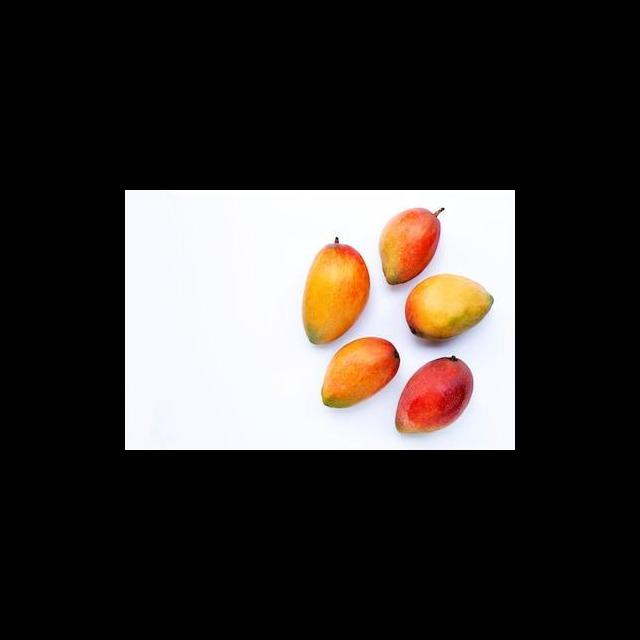mango: (302, 244, 369, 343), (395, 356, 473, 433), (405, 274, 494, 340), (322, 337, 400, 407), (379, 208, 440, 284)
